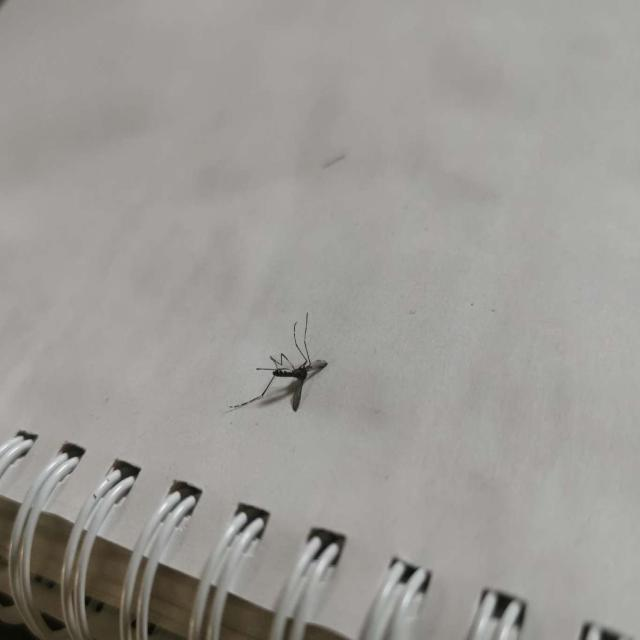albopictus: (227, 306, 334, 420)
